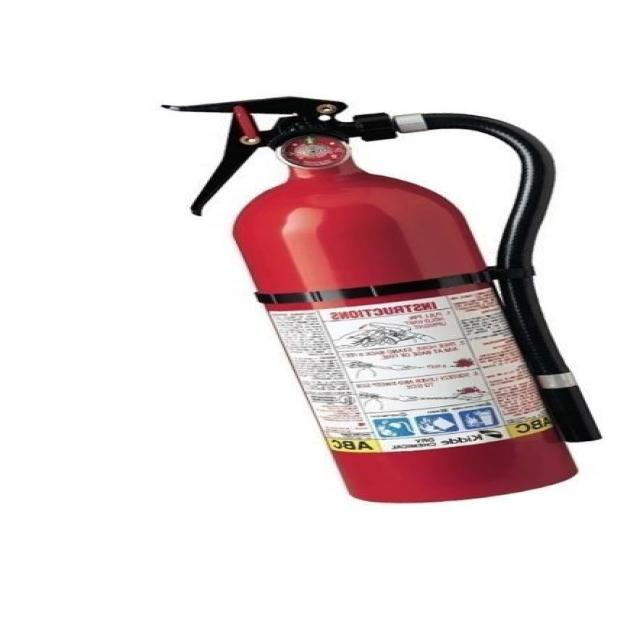fire_extinguisher: (147, 91, 604, 507)
